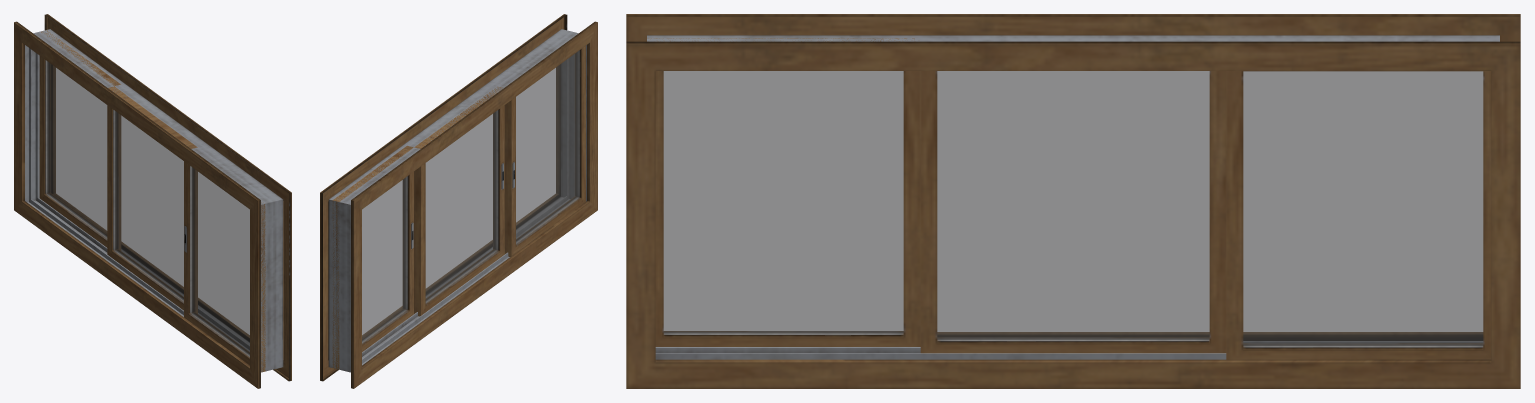
The model's file is Window G.fbx.
3 renders of one model, left to right at view 1: azimuth 30°, elevation 25°; view 2: azimuth 150°, elevation 25°; view 3: azimuth 270°, elevation 25°, orthographic. The views are drawn at different scales.
Visible parts, largest first — view 1: Window_Frame, Window_2, Window_3, Window_1; view 2: Window_Frame, Window_2, Window_3, Window_1; view 3: Window_Frame, Window_2, Window_1, Window_3.
Part boxes in pixels (x1,y1,x2,y2): Window_Frame: [14, 14, 291, 388]; Window_2: [107, 86, 197, 313]; Window_3: [184, 161, 265, 372]; Window_1: [39, 30, 120, 250]; Window_Frame: [320, 14, 597, 388]; Window_2: [414, 86, 504, 316]; Window_3: [504, 46, 585, 256]; Window_1: [332, 145, 413, 369]; Window_Frame: [626, 14, 1520, 388]; Window_2: [920, 71, 1226, 353]; Window_1: [1226, 71, 1491, 359]; Window_3: [647, 38, 920, 346].
Bounding box in the file's own units: 24.37 × 129 × 304.
